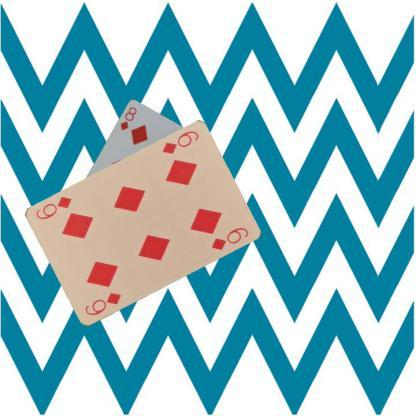6d: (159, 128, 200, 156), (82, 290, 123, 317)
8d: (118, 104, 138, 132)
